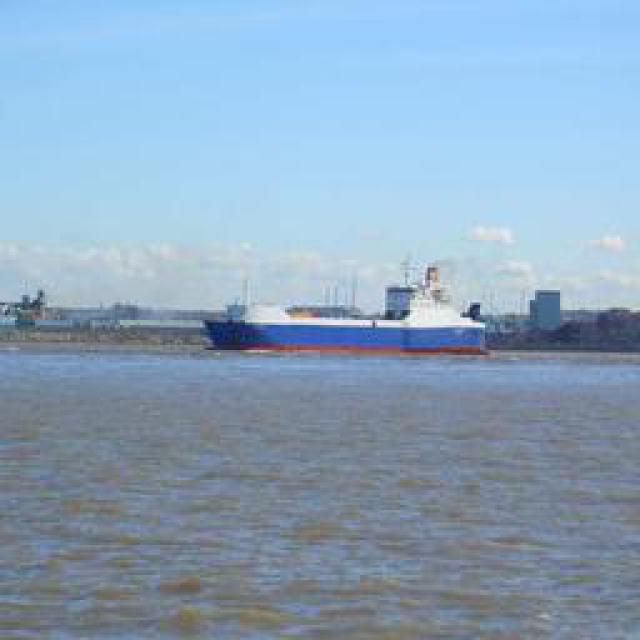Ship: (202, 267, 495, 357)
